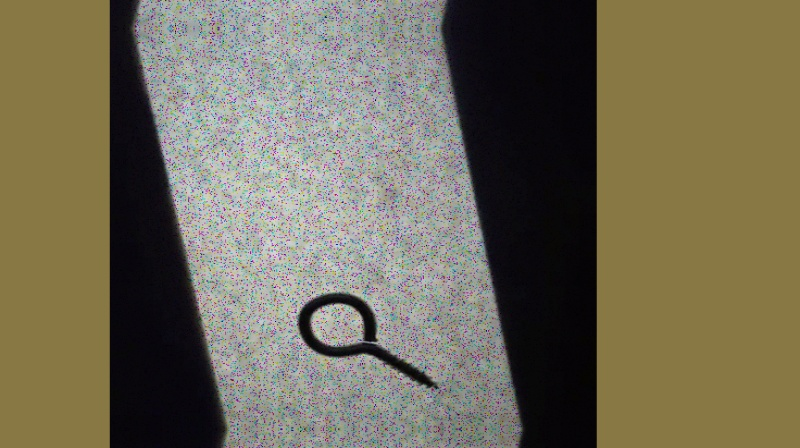O001: (294, 290, 444, 390)
